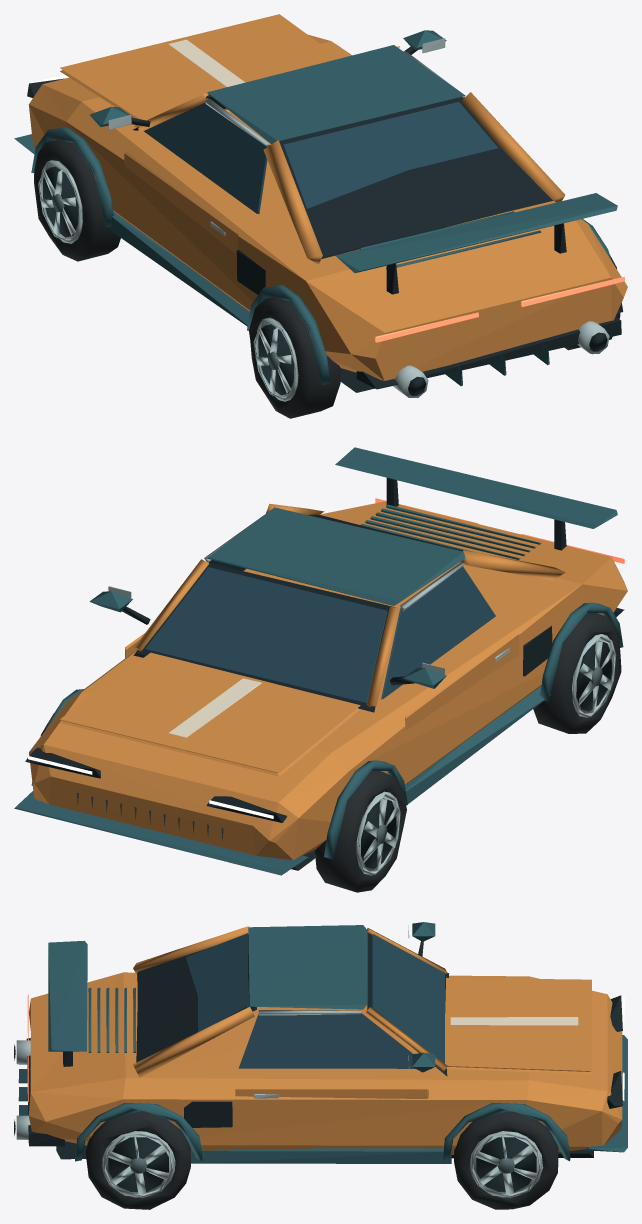
File: comet-sport.low.glb
3 views of the same model, one above another, from view 1: azimuth 30°, elevation 25°; view 2: azimuth 150°, elevation 25°; view 3: azimuth 270°, elevation 25° (orthographic). The views are drawn at different scales.
Parts seen in each view (by area): view 1: geometry:body:0, geometry:body:3, geometry:body:1, geometry:body:2, geometry:door-left:10, geometry:rear-left:23, geometry:front-left:19, geometry:door-left:9, geometry:front-left:20, geometry:rear-left:24, geometry:body:5, geometry:rear-left:25 (+4 smaller); view 2: geometry:body:0, geometry:body:3, geometry:body:2, geometry:door-left:10, geometry:body:1, geometry:front-left:19, geometry:rear-left:23, geometry:door-left:9, geometry:front-left:20, geometry:rear-left:24, geometry:body:8, geometry:front-left:21 (+2 smaller); view 3: geometry:body:0, geometry:body:3, geometry:body:2, geometry:body:1, geometry:door-right:15, geometry:front-right:27, geometry:rear-right:31, geometry:front-right:28, geometry:rear-right:32, geometry:front-right:29, geometry:rear-right:33, geometry:door-right:14 (+3 smaller).
Boxes of the visible parts, <box> form: geometry:body:0: <box>28,14,627,380</box>; geometry:body:3: <box>14,45,623,386</box>; geometry:body:1: <box>27,78,621,395</box>; geometry:body:2: <box>208,94,497,208</box>; geometry:door-left:10: <box>144,103,269,214</box>; geometry:rear-left:23: <box>249,297,340,418</box>; geometry:front-left:19: <box>34,140,120,261</box>; geometry:door-left:9: <box>124,152,238,253</box>; geometry:front-left:20: <box>38,160,82,243</box>; geometry:rear-left:24: <box>253,317,298,401</box>; geometry:body:5: <box>375,276,624,342</box>; geometry:rear-left:25: <box>258,324,294,395</box>; geometry:body:0: <box>29,501,627,860</box>; geometry:body:3: <box>14,447,623,875</box>; geometry:body:2: <box>145,567,387,703</box>; geometry:door-left:10: <box>381,566,495,699</box>; geometry:body:1: <box>25,478,624,870</box>; geometry:front-left:19: <box>314,771,406,892</box>; geometry:rear-left:23: <box>533,613,621,733</box>; geometry:door-left:9: <box>405,634,519,730</box>; geometry:front-left:20: <box>356,791,400,875</box>; geometry:rear-left:24: <box>572,634,616,717</box>; geometry:body:8: <box>168,678,261,737</box>; geometry:front-left:21: <box>361,798,396,869</box>; geometry:body:0: <box>29,926,622,1154</box>; geometry:body:3: <box>18,925,627,1163</box>; geometry:body:2: <box>185,933,444,1063</box>; geometry:body:1: <box>14,932,622,1159</box>; geometry:door-right:15: <box>238,1013,431,1068</box>; geometry:front-right:27: <box>454,1111,558,1209</box>; geometry:rear-right:31: <box>85,1111,191,1209</box>; geometry:front-right:28: <box>469,1131,543,1197</box>; geometry:rear-right:32: <box>102,1131,175,1197</box>; geometry:front-right:29: <box>476,1137,536,1192</box>; geometry:rear-right:33: <box>108,1137,168,1192</box>; geometry:door-right:14: <box>235,1089,428,1098</box>.
Size of the model in its own units: 2.54 by 1.51 by 4.61.
